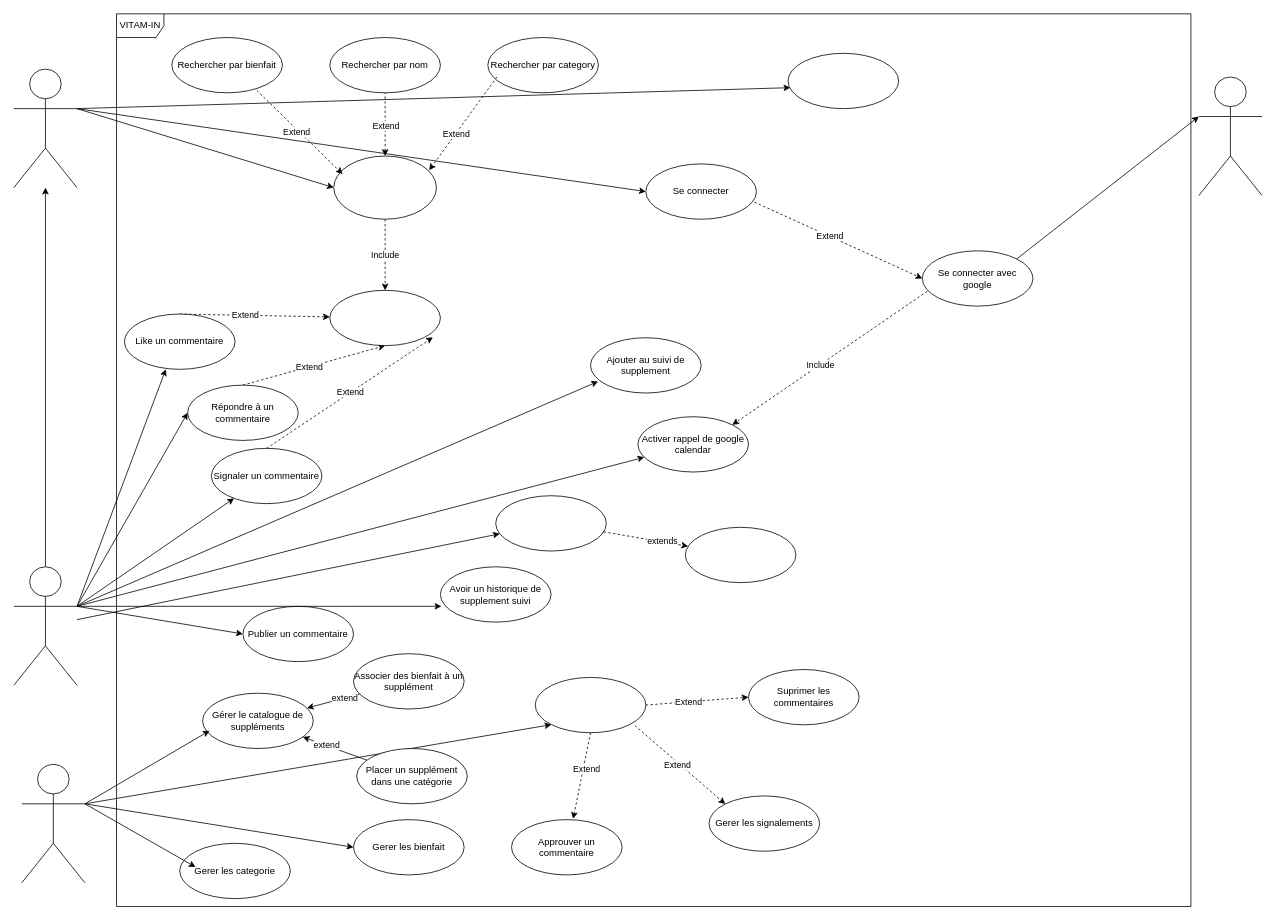
Image size: 1278x920. Some labels were removed from this diagram. Here are the shapes that lost their labels. From the top down, the centre of each, then its label:
(x=843, y=81): S'inscrire
(x=45, y=128): Visiteur
(x=1230, y=136): Google Auth 2.0
(x=384, y=187): consulter fiche de supplémente
(x=384, y=318): Voir les commentaires approuvés
(x=550, y=523): Consulter le suivi d'un supplément
(x=740, y=555): Prendre des notes personnelles sur un suivi de supplément
(x=45, y=625): Membre
(x=590, y=705): Moderer un commentaire
(x=53, y=823): Administrateur
